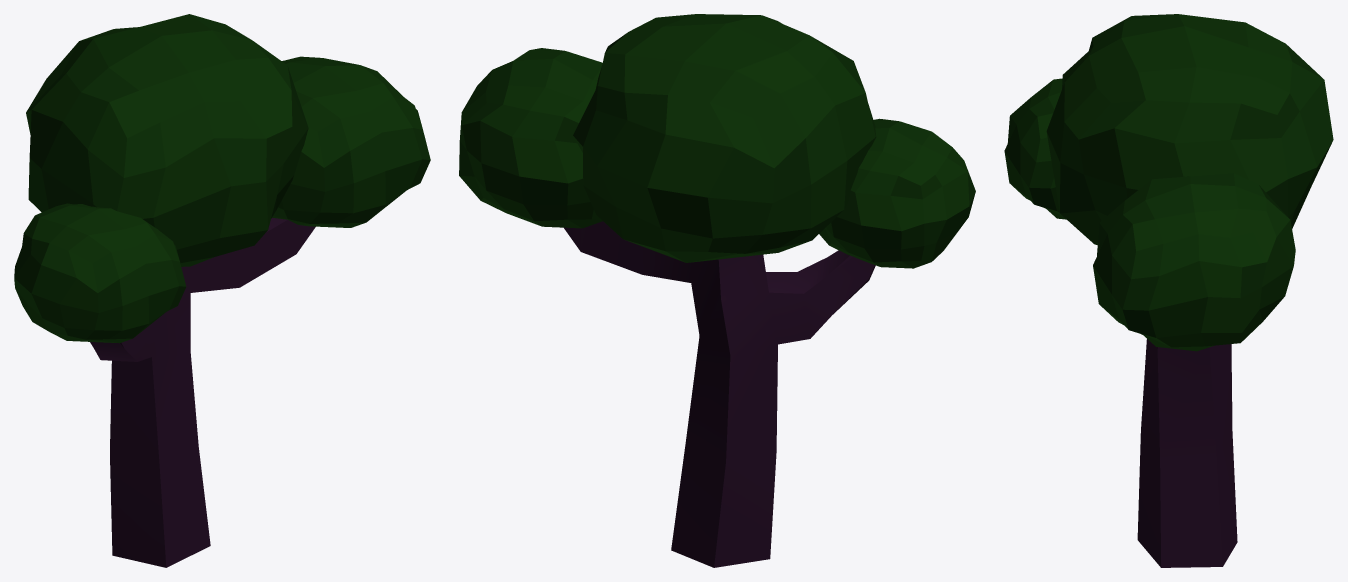
The model's file is prop_tree2.FBX.
The picture shows the model from 3 angles, left to right: view 1: azimuth 30°, elevation 25°; view 2: azimuth 150°, elevation 25°; view 3: azimuth 270°, elevation 25°; orthographic projection. The views are drawn at different scales.
Parts seen in each view (by area): view 1: tree; view 2: tree; view 3: tree.
Part boxes in pixels (left/top/right/bottom): tree: left=14, top=14, right=430, bottom=567; tree: left=459, top=14, right=975, bottom=567; tree: left=1004, top=14, right=1333, bottom=567.
Size of the model in its own units: 14.35 by 16.26 by 9.27.
